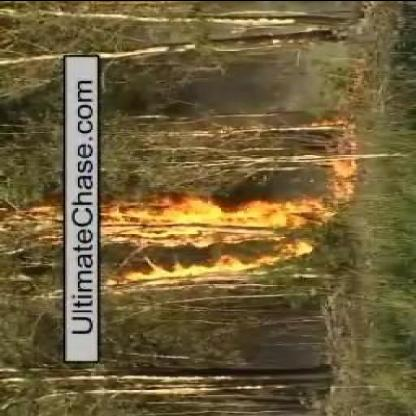-: (202, 76, 282, 114)
foggia-v2-map80-epoch100 - v1 4323: (1, 189, 326, 279)
